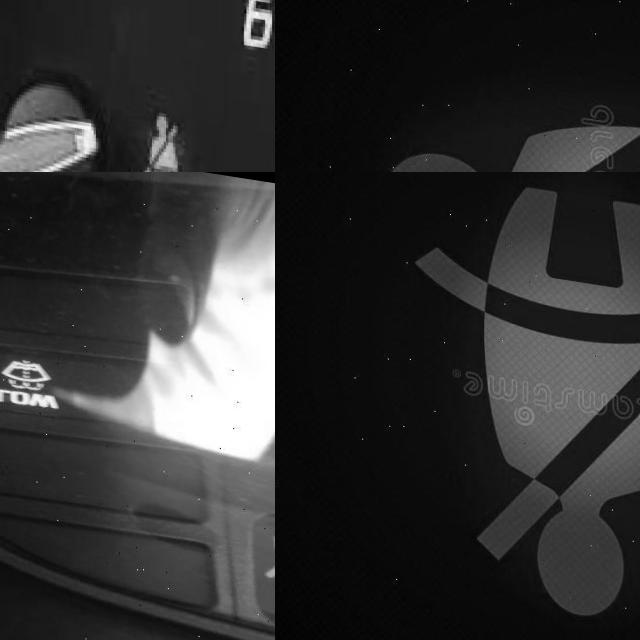Seat Belt: (414, 172, 640, 622), (388, 30, 640, 172), (141, 99, 187, 172)
Washer Fluid: (1, 344, 54, 383)
